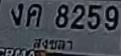2: (70, 4, 84, 28)
5: (87, 4, 101, 29)
8: (55, 3, 68, 27)
9: (104, 5, 117, 29)
A04: (26, 3, 42, 26)
A07: (10, 2, 22, 25)
SKA: (31, 35, 76, 52)
